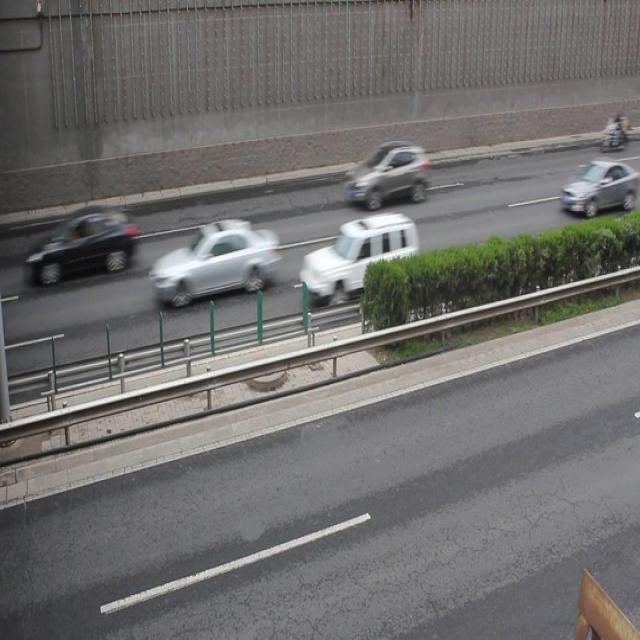car: (150, 219, 278, 305), (38, 206, 134, 282), (346, 141, 429, 209), (559, 161, 640, 212)
truck: (300, 217, 416, 297)
